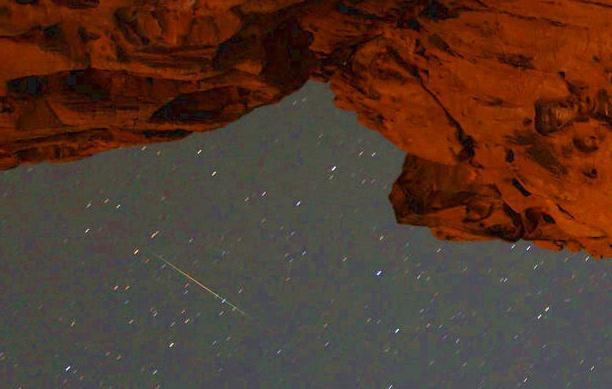meteorite: (144, 247, 254, 327)
